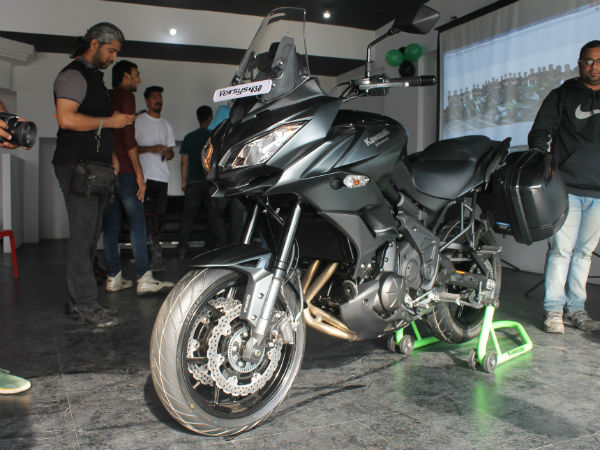Bike: (153, 87, 518, 406)
